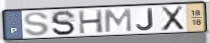H: (77, 9, 105, 35)
J: (136, 7, 156, 32)
M: (103, 8, 133, 33)
S: (50, 10, 78, 37), (23, 11, 51, 37)
X: (159, 5, 186, 32)
